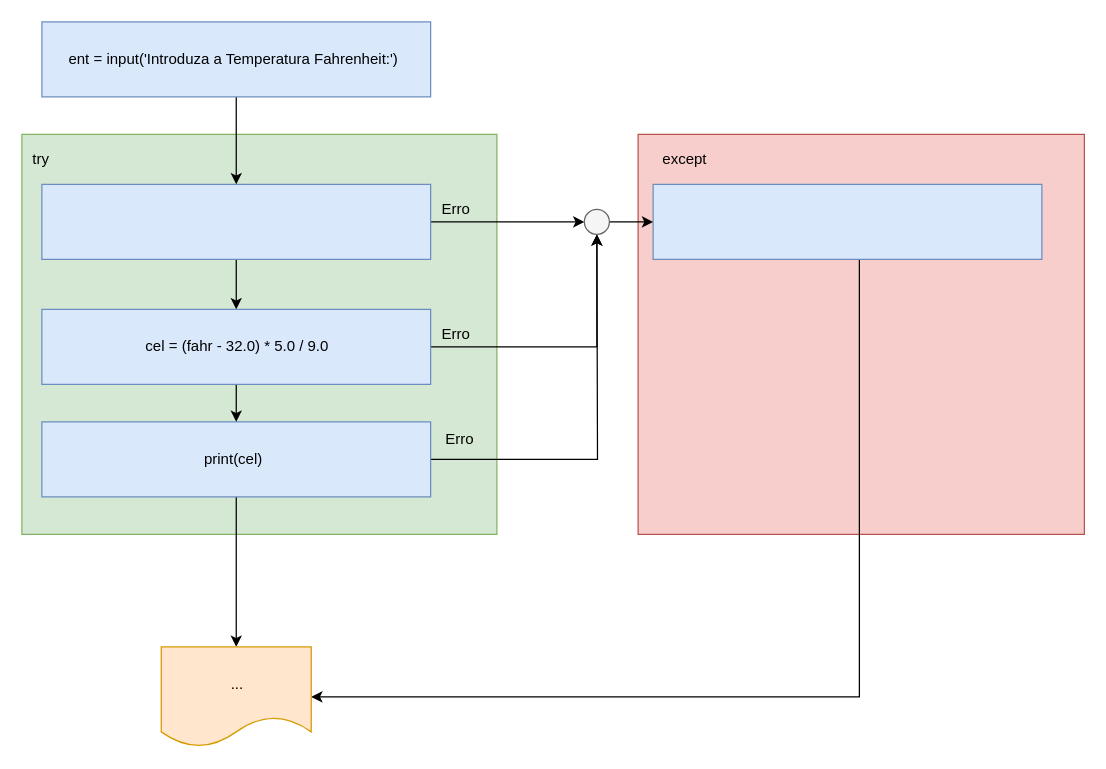
The diagram is 1106 pixels wide and 769 high, and some of its shapes have lost their labels. The centre of each missing label's shape, as x and y in pixels:
"fahr = float(ent)" goes at point (236, 221).
"print('Por favor, introduza un número')" goes at point (847, 221).
